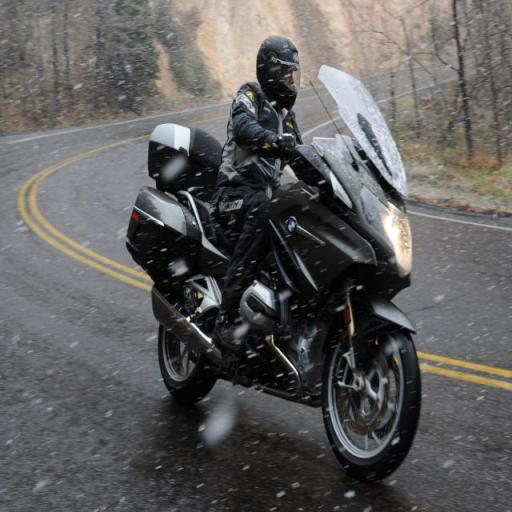Helmet: (257, 36, 299, 109)
Motor: (127, 67, 420, 479)
